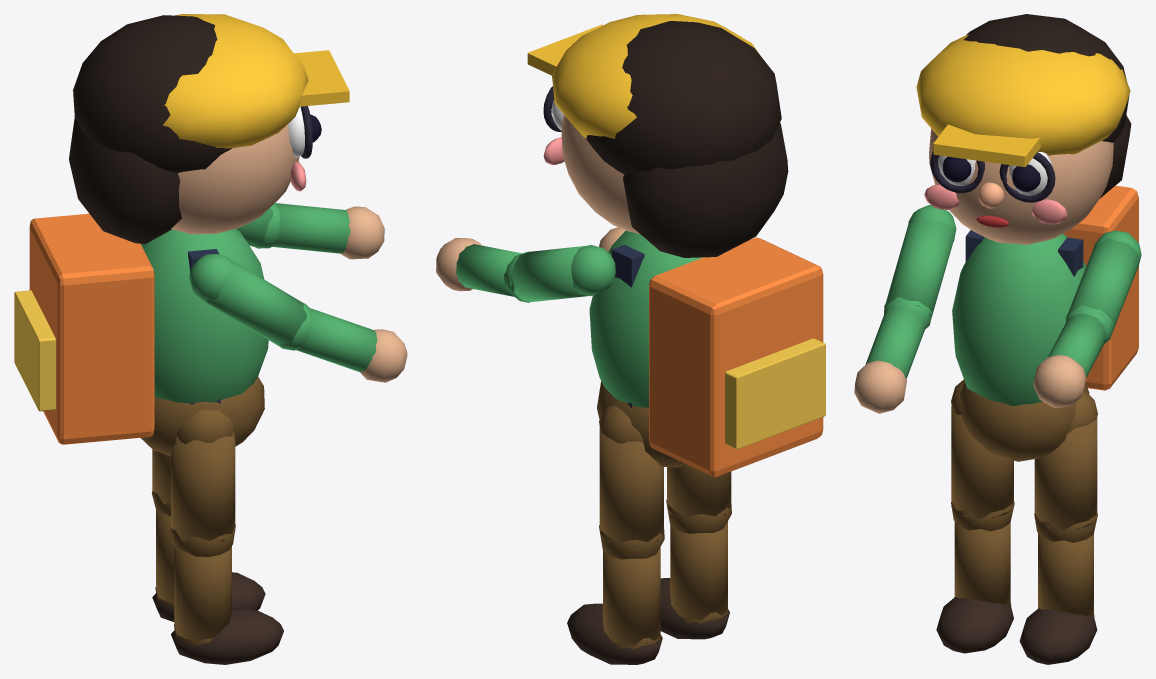
The model's file is hrdina_2_radost.glb.
3 renders of one model, left to right at view 1: azimuth 30°, elevation 25°; view 2: azimuth 150°, elevation 25°; view 3: azimuth 270°, elevation 25°, orthographic. The views are drawn at different scales.
Visible parts, largest first — view 1: Cube, Sphere.011, Sphere, Sphere.013, Sphere.012, Sphere.002, Cylinder.004, Cylinder.005, Cylinder, Cube.001, Sphere.026, Sphere.001 (+13 smaller); view 2: Cube, Sphere.011, Sphere.012, Cube.001, Sphere.013, Sphere, Cylinder.006, Cylinder.007, Cylinder.005, Sphere.002, Cylinder.002, Cylinder.004 (+11 smaller); view 3: Sphere.013, Sphere, Sphere.002, Sphere.001, Cube, Cylinder.006, Cylinder.004, Sphere.011, Cylinder.005, Cylinder, Cylinder.007, Cylinder.002 (+24 smaller).
Part boxes in pixels (x1,y1,x2,y2): Cube: [29, 213, 154, 444]; Sphere.011: [73, 15, 231, 173]; Sphere: [141, 229, 268, 403]; Sphere.013: [163, 14, 308, 148]; Sphere.012: [69, 117, 181, 244]; Sphere.002: [171, 124, 299, 234]; Cylinder.004: [171, 431, 235, 543]; Cylinder.005: [174, 546, 231, 641]; Cylinder: [202, 259, 307, 346]; Cube.001: [14, 290, 55, 411]; Sphere.026: [171, 608, 283, 664]; Sphere.001: [140, 376, 264, 456]; Cube: [649, 237, 823, 477]; Sphere.011: [586, 21, 781, 174]; Sphere.012: [623, 123, 788, 257]; Cube.001: [725, 338, 825, 449]; Sphere.013: [552, 14, 760, 138]; Sphere: [589, 230, 702, 407]; Cylinder.006: [599, 427, 663, 546]; Cylinder.007: [603, 547, 660, 645]; Cylinder.005: [670, 521, 727, 619]; Sphere.002: [561, 115, 639, 233]; Cylinder.002: [509, 245, 593, 301]; Cylinder.004: [667, 464, 731, 520]; Sphere.013: [916, 34, 1130, 155]; Sphere: [952, 233, 1086, 405]; Sphere.002: [929, 128, 1113, 244]; Sphere.001: [959, 381, 1089, 461]; Cube: [1063, 185, 1138, 390]; Cylinder.006: [1034, 417, 1097, 530]; Cylinder.004: [951, 406, 1013, 518]; Sphere.011: [964, 14, 1129, 142]; Cylinder.005: [954, 522, 1010, 604]; Cylinder: [885, 217, 954, 319]; Cylinder.007: [1038, 533, 1093, 616]; Cylinder.002: [1068, 238, 1139, 333].
Size of the model in its own units: 0.7746 by 1.27 by 0.5435.
